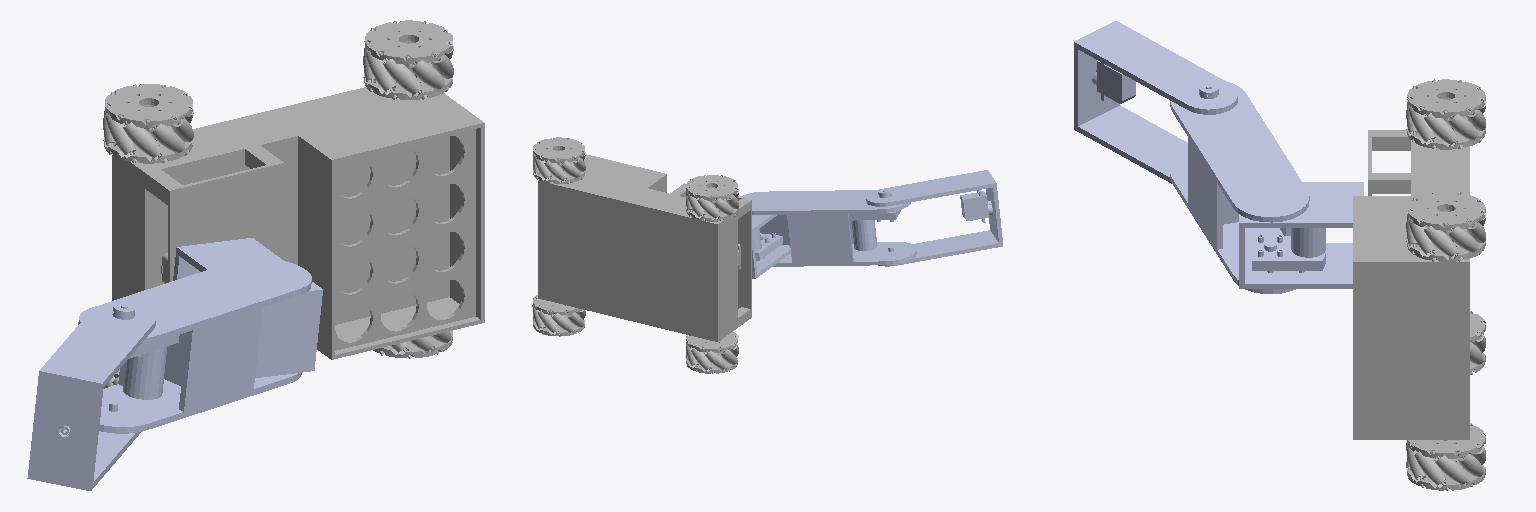
URDF robot description (manipultor_m3_v1):
<?xml version="1.0" encoding="utf-8"?>
<!-- This URDF was automatically created by SolidWorks to URDF Exporter! Originally created by [author] ([email redacted]) 
     Commit Version: 1.6.0-1-g15f4949  Build Version: 1.6.7594.29634
     For more information, please see http://wiki.ros.org/sw_urdf_exporter -->
<robot
  name="manipultor_m3_v1">
  <link
    name="Ground_link">
    <inertial>
      <origin
        xyz="0.12786 0.14132 0.35906"
        rpy="0 0 0" />
      <mass
        value="3.3464" />
      <inertia
        ixx="0.020256"
        ixy="3.9352E-10"
        ixz="0.0020102"
        iyy="0.03432"
        iyz="3.3678E-10"
        izz="0.047369" />
    </inertial>
    <visual>
      <origin
        xyz="0 0 0"
        rpy="0 0 0" />
      <geometry>
        <mesh
          filename="package://manipultor_m3_v1/meshes/Ground_link.STL" />
      </geometry>
      <material
        name="">
        <color
          rgba="0.75294 0.75294 0.75294 1" />
      </material>
    </visual>
    <collision>
      <origin
        xyz="0 0 0"
        rpy="0 0 0" />
      <geometry>
        <mesh
          filename="package://manipultor_m3_v1/meshes/Ground_link.STL" />
      </geometry>
    </collision>
  </link>
  <link
    name="Base_Link">
    <inertial>
      <origin
        xyz="-0.081299 -0.0018414 -2.4138E-10"
        rpy="0 0 0" />
      <mass
        value="0.58835" />
      <inertia
        ixx="0.0011149"
        ixy="-5.5509E-05"
        ixz="-4.8804E-12"
        iyy="0.0018015"
        iyz="-6.3121E-12"
        izz="0.0021851" />
    </inertial>
    <visual>
      <origin
        xyz="0 0 0"
        rpy="0 0 0" />
      <geometry>
        <mesh
          filename="package://manipultor_m3_v1/meshes/Base_Link.STL" />
      </geometry>
      <material
        name="">
        <color
          rgba="0.79216 0.81961 0.93333 1" />
      </material>
    </visual>
    <collision>
      <origin
        xyz="0 0 0"
        rpy="0 0 0" />
      <geometry>
        <mesh
          filename="package://manipultor_m3_v1/meshes/Base_Link.STL" />
      </geometry>
    </collision>
  </link>
  <joint
    name="J_1"
    type="revolute">
    <origin
      xyz="-0.026975 -0.43671 0.14132"
      rpy="1.6861 0 1.5708" />
    <parent
      link="Ground_link" />
    <child
      link="Base_Link" />
    <axis
      xyz="1 0 0" />
    <limit
      lower="0"
      upper="0"
      effort="0"
      velocity="0" />
  </joint>
  <link
    name="Shoulder_Link">
    <inertial>
      <origin
        xyz="-0.0025565 0.1421 -1.3448E-10"
        rpy="0 0 0" />
      <mass
        value="0.98781" />
      <inertia
        ixx="0.0060003"
        ixy="5.6663E-05"
        ixz="-5.7791E-12"
        iyy="0.0027721"
        iyz="-4.3947E-09"
        izz="0.006974" />
    </inertial>
    <visual>
      <origin
        xyz="0 0 0"
        rpy="0 0 0" />
      <geometry>
        <mesh
          filename="package://manipultor_m3_v1/meshes/Shoulder_Link.STL" />
      </geometry>
      <material
        name="">
        <color
          rgba="0.79216 0.81961 0.93333 1" />
      </material>
    </visual>
    <collision>
      <origin
        xyz="0 0 0"
        rpy="0 0 0" />
      <geometry>
        <mesh
          filename="package://manipultor_m3_v1/meshes/Shoulder_Link.STL" />
      </geometry>
    </collision>
  </link>
  <joint
    name="J_2"
    type="revolute">
    <origin
      xyz="-0.12 0 0"
      rpy="-2.4655 0 -1.5708" />
    <parent
      link="Base_Link" />
    <child
      link="Shoulder_Link" />
    <axis
      xyz="1 0 0" />
    <limit
      lower="0"
      upper="0"
      effort="0"
      velocity="0" />
  </joint>
  <link
    name="Elbow_Link">
    <inertial>
      <origin
        xyz="-0.0021644 0.12249 -1.3349E-09"
        rpy="0 0 0" />
      <mass
        value="0.43553" />
      <inertia
        ixx="0.0023528"
        ixy="-1.608E-06"
        ixz="5.7557E-12"
        iyy="0.001373"
        iyz="4.115E-09"
        izz="0.0033893" />
    </inertial>
    <visual>
      <origin
        xyz="0 0 0"
        rpy="0 0 0" />
      <geometry>
        <mesh
          filename="package://manipultor_m3_v1/meshes/Elbow_Link.STL" />
      </geometry>
      <material
        name="">
        <color
          rgba="0.79216 0.81961 0.93333 1" />
      </material>
    </visual>
    <collision>
      <origin
        xyz="0 0 0"
        rpy="0 0 0" />
      <geometry>
        <mesh
          filename="package://manipultor_m3_v1/meshes/Elbow_Link.STL" />
      </geometry>
    </collision>
  </link>
  <joint
    name="J_3"
    type="revolute">
    <origin
      xyz="0 0.25 0"
      rpy="0.44871 0 0" />
    <parent
      link="Shoulder_Link" />
    <child
      link="Elbow_Link" />
    <axis
      xyz="1 0 0" />
    <limit
      lower="0"
      upper="0"
      effort="0"
      velocity="0" />
  </joint>
</robot>

--- Facts derived from the render (not from the file) ---
Views: 3 orthographic renders of the robot side by side, from view 1: azimuth 30°, elevation 25°; view 2: azimuth 150°, elevation 25°; view 3: azimuth 270°, elevation 25°.
Model manipultor_m3_v1 with 4 links and 3 joints (3 revolute), rooted at Ground_link, posed all joints at 0.
Visible links, largest first — view 1: Ground_link, Shoulder_Link, Elbow_Link, Base_Link; view 2: Ground_link, Shoulder_Link, Elbow_Link, Base_Link; view 3: Ground_link, Shoulder_Link, Elbow_Link, Base_Link.
Boxes of the visible links, bbox=[...] form: Ground_link: bbox=[103, 20, 484, 388]; Shoulder_Link: bbox=[78, 258, 311, 433]; Elbow_Link: bbox=[27, 303, 155, 490]; Base_Link: bbox=[173, 238, 322, 377]; Ground_link: bbox=[532, 137, 751, 373]; Shoulder_Link: bbox=[740, 189, 916, 266]; Elbow_Link: bbox=[866, 170, 1002, 266]; Base_Link: bbox=[752, 215, 790, 278]; Ground_link: bbox=[1353, 79, 1485, 490]; Shoulder_Link: bbox=[1170, 81, 1309, 293]; Elbow_Link: bbox=[1074, 21, 1237, 183]; Base_Link: bbox=[1239, 182, 1363, 288].
Bounding box of the posed robot: 0.7935 × 0.5283 × 0.3791 m (x, y, z).
4 mesh visuals loaded from 4 distinct referenced files (4 binary STL).